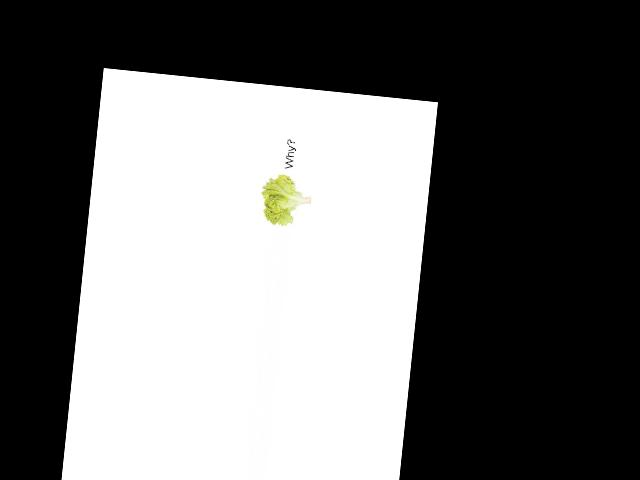lettuce: (258, 167, 314, 230)
